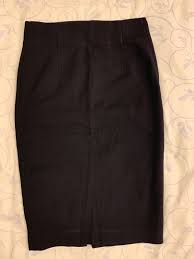F_tailored skirt: (14, 14, 173, 253)
